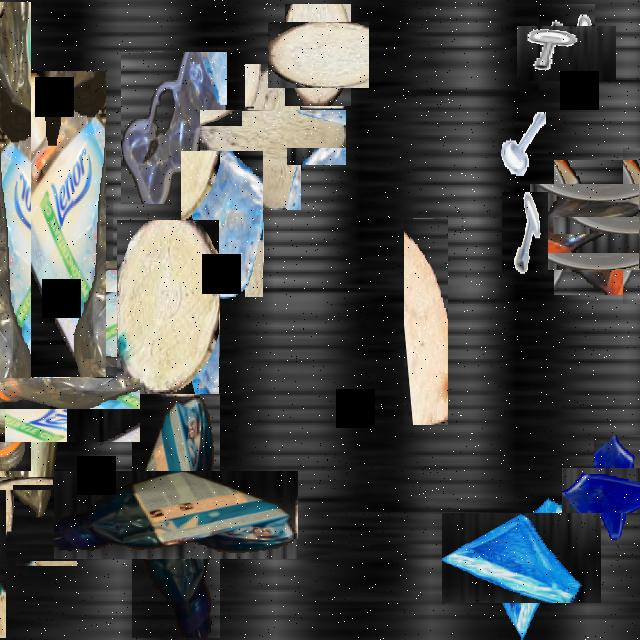glass: (458, 496, 584, 620), (181, 151, 263, 297), (578, 451, 640, 529)
metal: (528, 15, 606, 92), (502, 192, 548, 274), (501, 105, 545, 183)
plastic: (0, 71, 106, 377), (93, 432, 259, 599), (0, 229, 145, 406), (121, 52, 227, 204), (0, 2, 31, 471), (0, 340, 102, 480), (541, 172, 640, 282), (588, 182, 640, 269), (0, 524, 41, 602)
wood: (117, 220, 219, 394), (222, 86, 324, 188), (404, 219, 448, 425), (276, 13, 360, 97), (0, 456, 33, 510)
